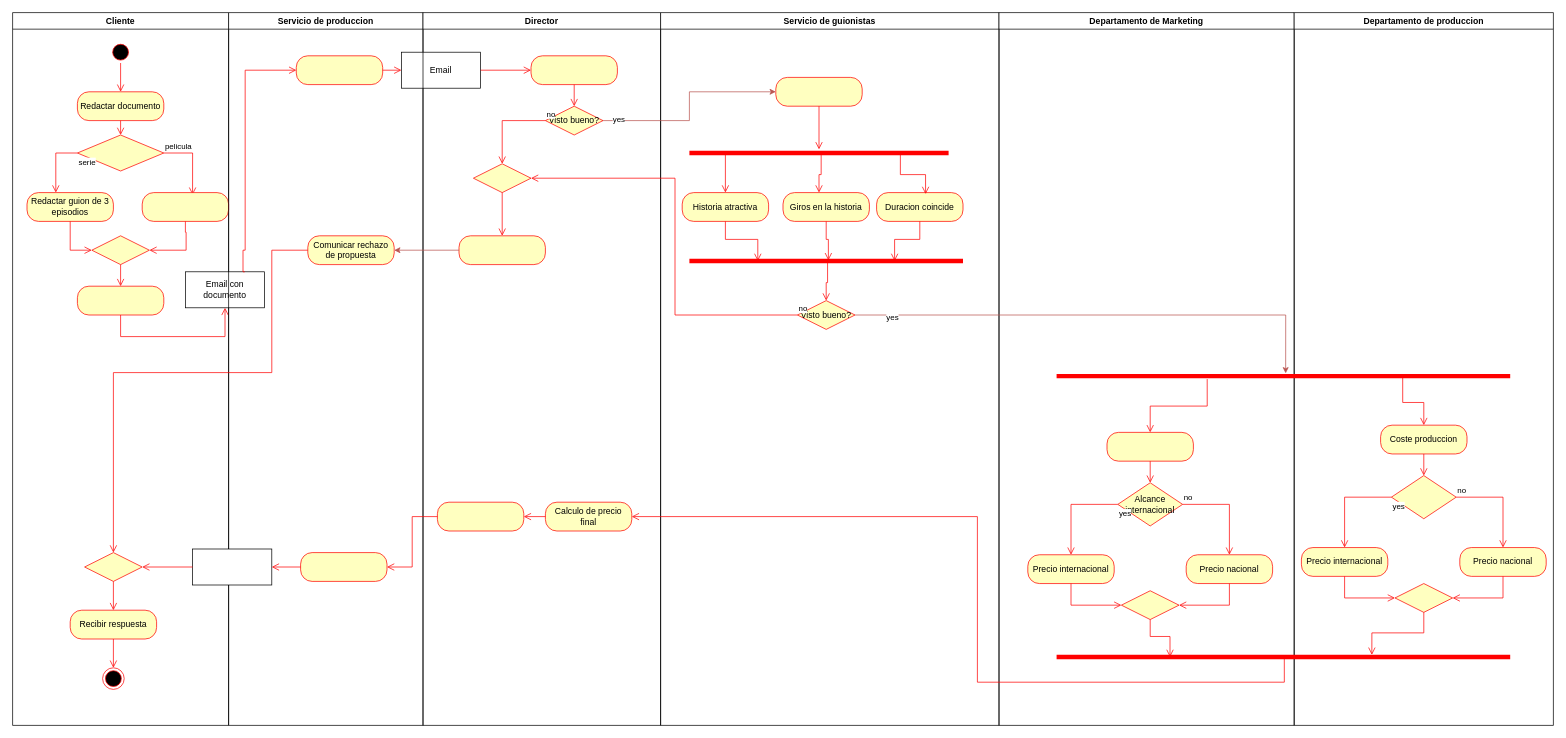
This 1566x738 diagram has some shape labels left out. The centre of each missing label's shape, as x and y in pixels:
Comenzar evaluacion del guion: [818,91]
Comunicar precio: [480,516]
Comunicar rechazo al servicio de produccion: [501,250]
Coste de campaña de marketing: [1149,446]
Leer guion: [573,70]
Mandar email: [120,300]
Mandar presupuesto al cliente: [343,566]
Pelicula o serie: [120,152]
Presupuesto: [232,566]
Redactar sinopsis: [185,206]
Reenviar email a director: [339,70]
Rodaje internacional: [1423,497]
